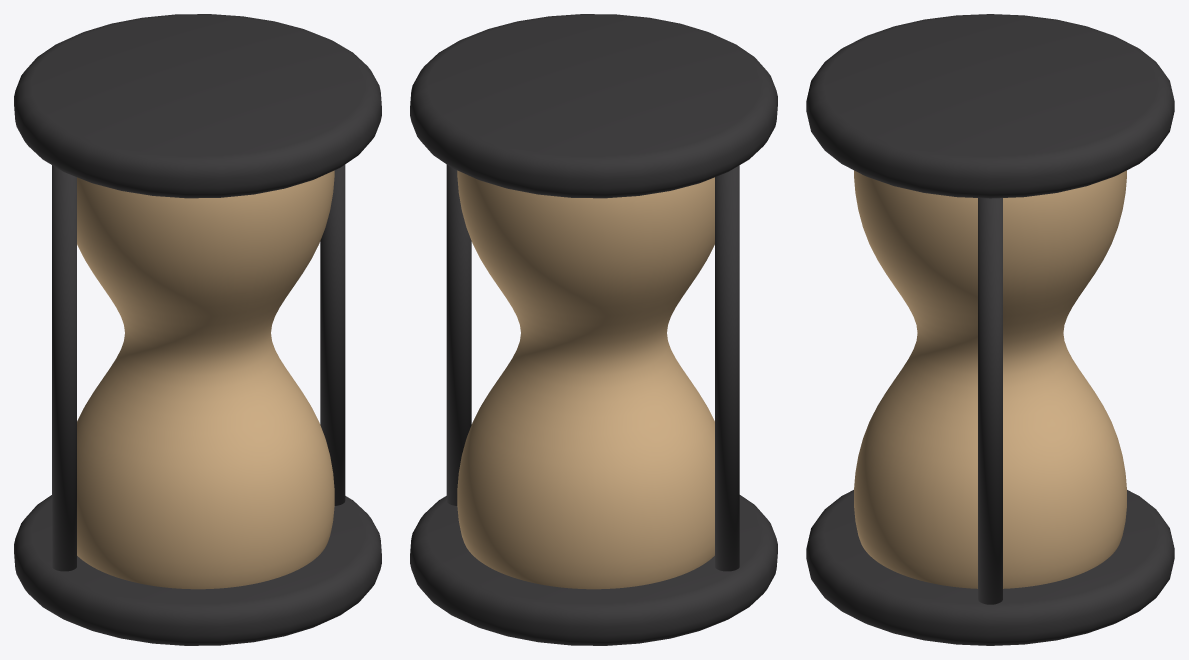
Rendered from loading-animated-3d-icon-169237968062.glb.
3 views of the same model, side by side, from view 1: azimuth 30°, elevation 25°; view 2: azimuth 150°, elevation 25°; view 3: azimuth 270°, elevation 25° (orthographic).
Visible parts, largest first — view 1: Glass.007, Base.009, Pillars; view 2: Glass.007, Base.009, Pillars; view 3: Base.009, Glass.007, Pillars.
Boxes of the visible parts, x1,y1,x2,y2 form: Glass.007: (77,170,334,589); Base.009: (14,14,381,645); Pillars: (52,164,345,571); Glass.007: (457,170,714,589); Base.009: (410,14,777,645); Pillars: (446,164,739,571); Base.009: (806,14,1174,645); Glass.007: (854,170,1126,588); Pillars: (978,198,1002,604).
Size of the model in its own units: 1.88 by 2.75 by 1.88.
